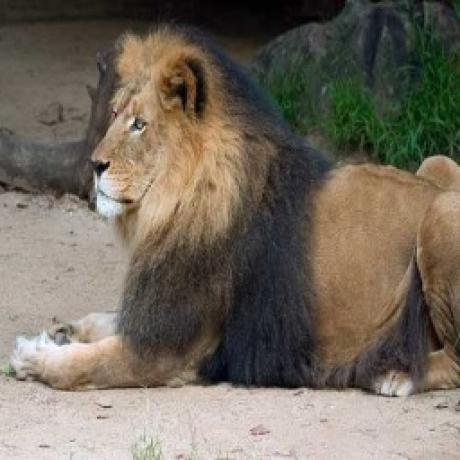Lion: (14, 20, 460, 405)
